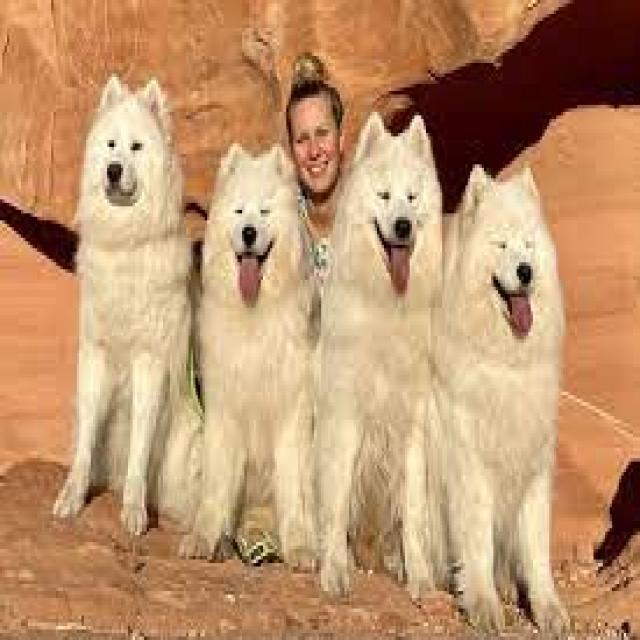dogs: (50, 68, 206, 540), (308, 108, 446, 604), (431, 161, 570, 639), (177, 142, 321, 574)
